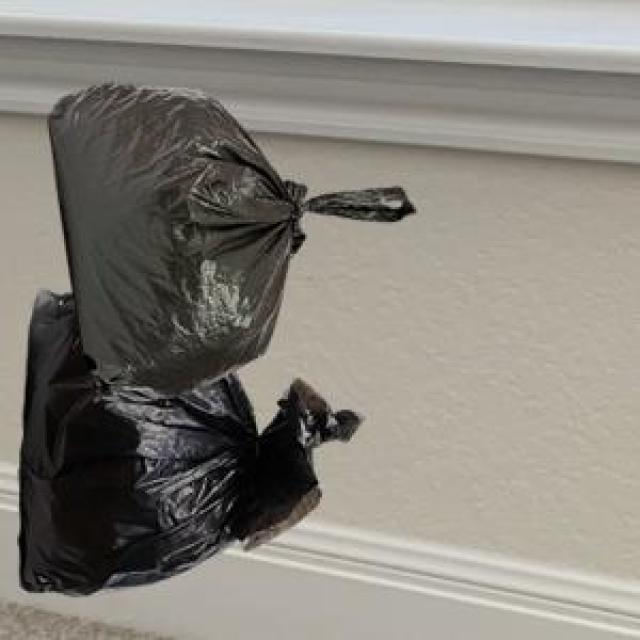miscellaneous trash: (45, 79, 410, 399), (15, 286, 361, 593)
